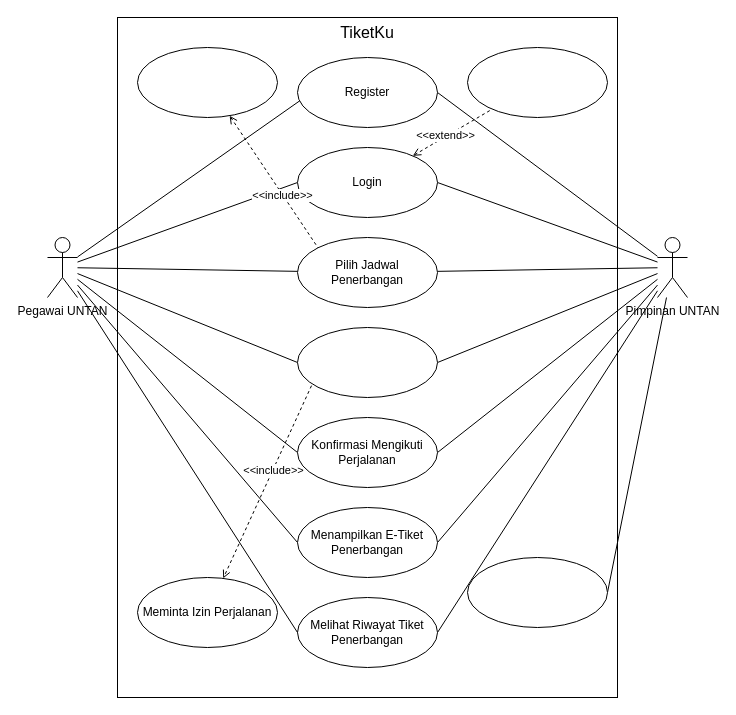
This 736x715 diagram has some shape labels left out. Each missing label, with the centre of its shape:
Cari Jadwal Penerbangan: the point at 207,82
Isi Data Penumpang: the point at 367,362
Logout: the point at 537,82
Memberi Izin Perjalanan: the point at 537,592
